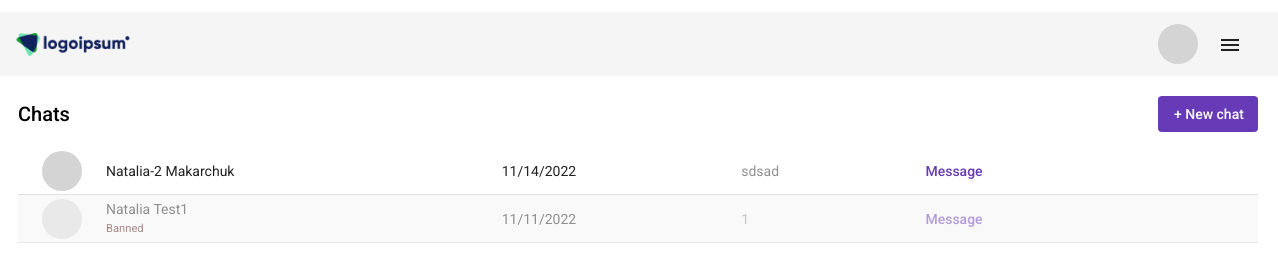
Scenario: Initials › Admin panel should be shown for admin
Step 1. Click the button named "Menu" → (1230, 44), box [1198, 26, 1262, 62]
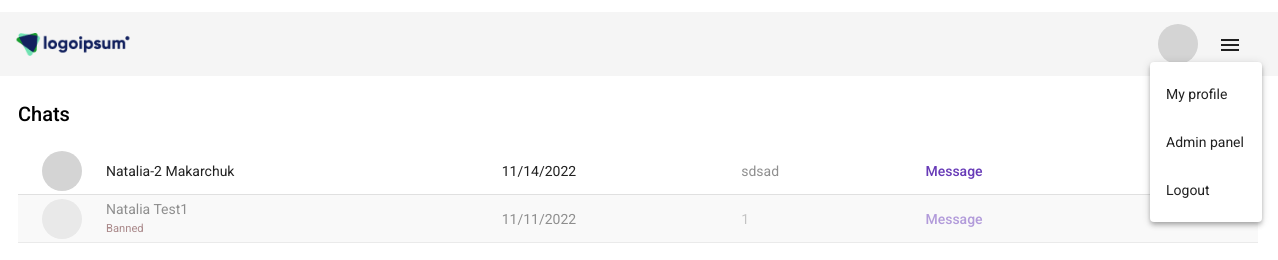
Expected: the menu item "Admin panel" is shown, [1150, 118, 1262, 166]
